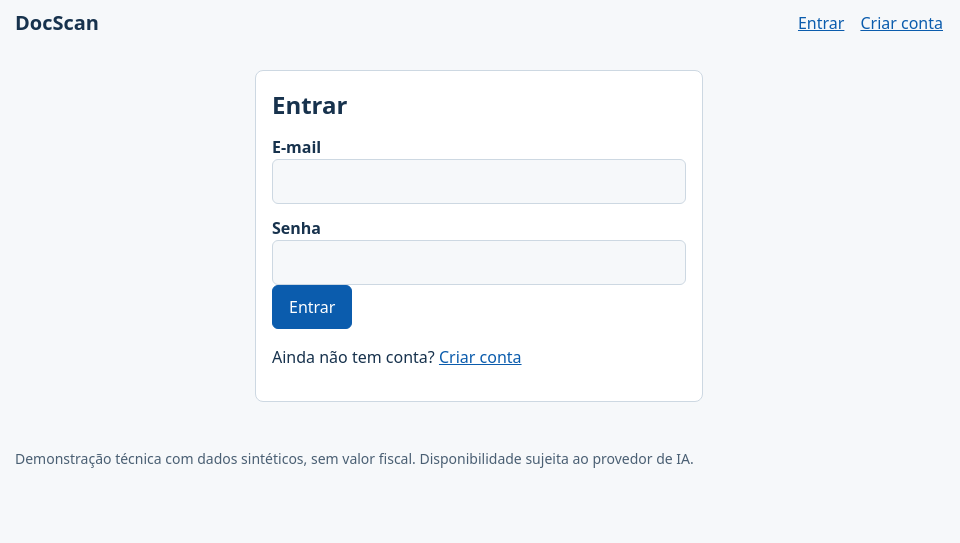
acesso › credencial inválida mostra erro acessível, devolve o foco ao aviso e não duplica a submissão
The width and height of the screenshot is (960, 543).
Type "visitante@example.test" into the field labelled "E-mail" at {"x": 479, "y": 182}, box [272, 159, 686, 204]
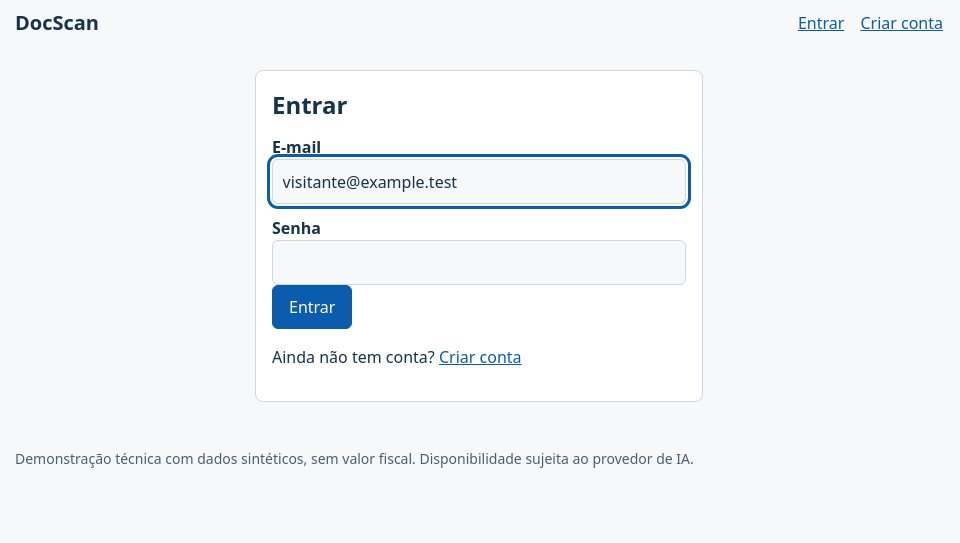
Type "errada-errada" into the password field labelled "Senha" at {"x": 479, "y": 263}, box [272, 240, 686, 285]
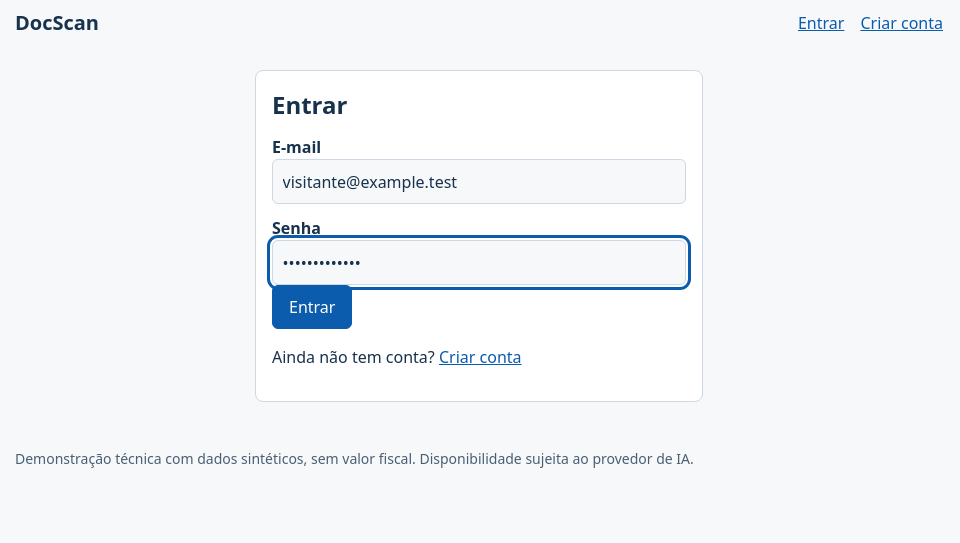
Click the button "Entrar" at {"x": 312, "y": 307}, box [272, 285, 352, 329]
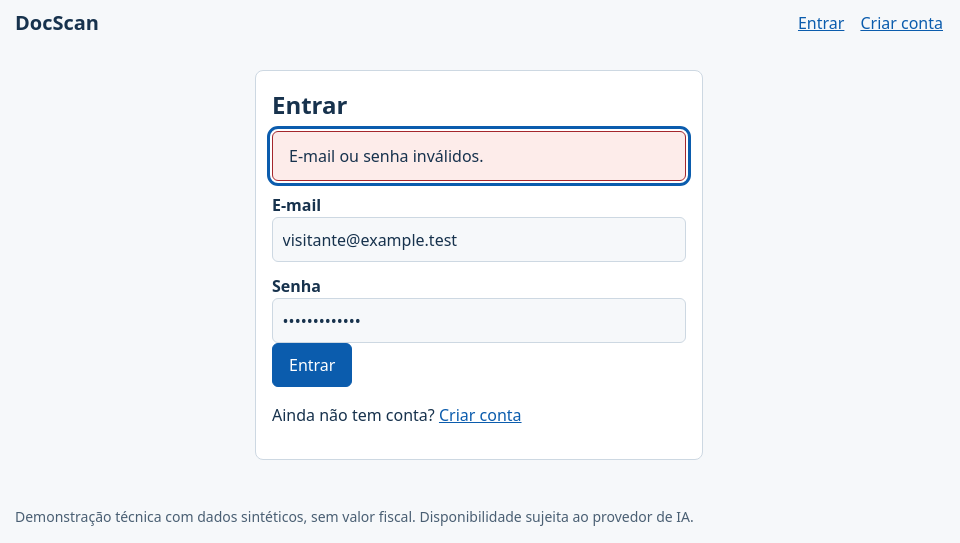
Check: the message reads "E-mail ou senha inválidos.", box [289, 145, 484, 167]
